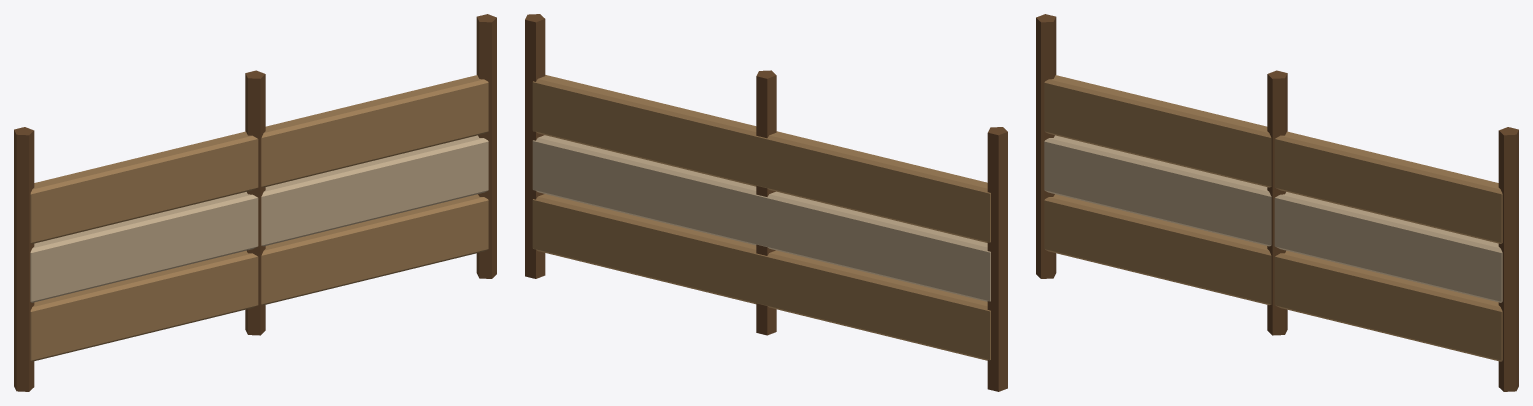
The model's file is fence.fbx.
The picture shows the model from 3 angles, left to right: view 1: azimuth 30°, elevation 25°; view 2: azimuth 150°, elevation 25°; view 3: azimuth 330°, elevation 25°; orthographic projection.
Visible parts, largest first — view 1: Prop; view 2: Prop; view 3: Prop.
Part boxes in pixels (x1,y1,x2,y2): Prop: (14,14,496,391); Prop: (525,14,1007,391); Prop: (1036,14,1518,391).
Bounding box in the file's own units: 1.04 × 0.0375 × 0.53.
